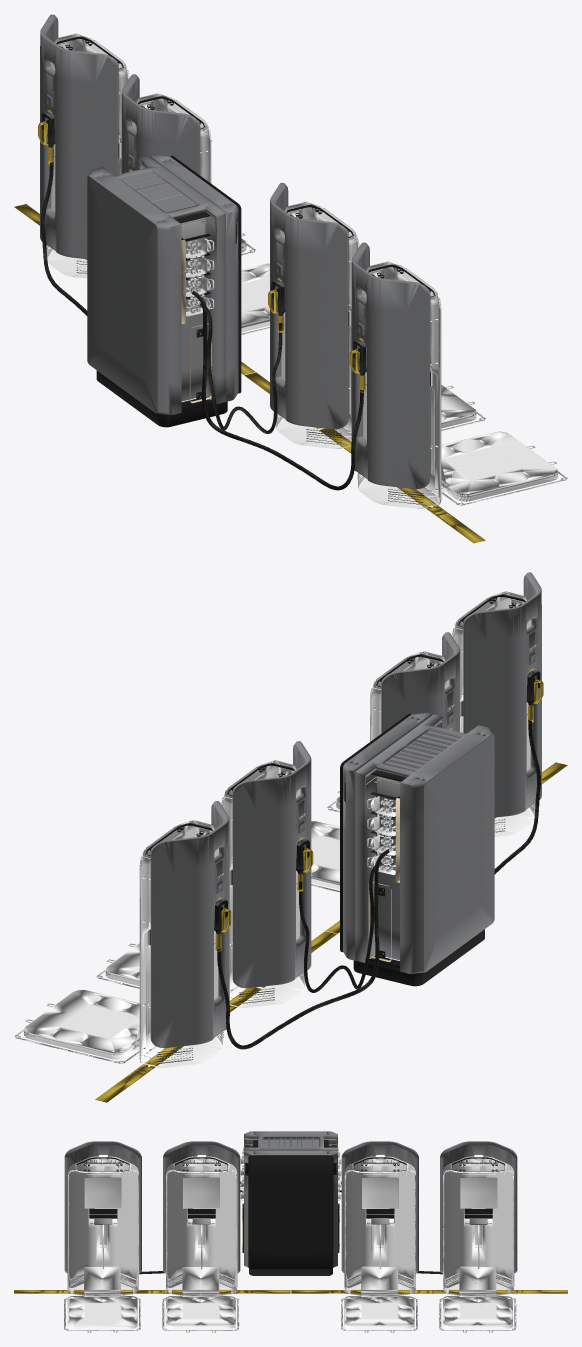
File: cargador_robot.glb
3 renders of one model, top to bottom at view 1: azimuth 30°, elevation 25°; view 2: azimuth 150°, elevation 25°; view 3: azimuth 270°, elevation 25°, orthographic. The views are drawn at different scales.
Visible parts, largest first — view 1: sm_equipment_robot_charger_a01_01; view 2: sm_equipment_robot_charger_a01_01; view 3: sm_equipment_robot_charger_a01_01.
Boxes of the visible parts, <box> form: sm_equipment_robot_charger_a01_01: <box>14,14,567,543</box>; sm_equipment_robot_charger_a01_01: <box>14,572,567,1102</box>; sm_equipment_robot_charger_a01_01: <box>14,1131,567,1332</box>.
Bounding box in the file's own units: 1.97 × 1.62 × 5.9.
Materials: 59 (29 with a texture image).
